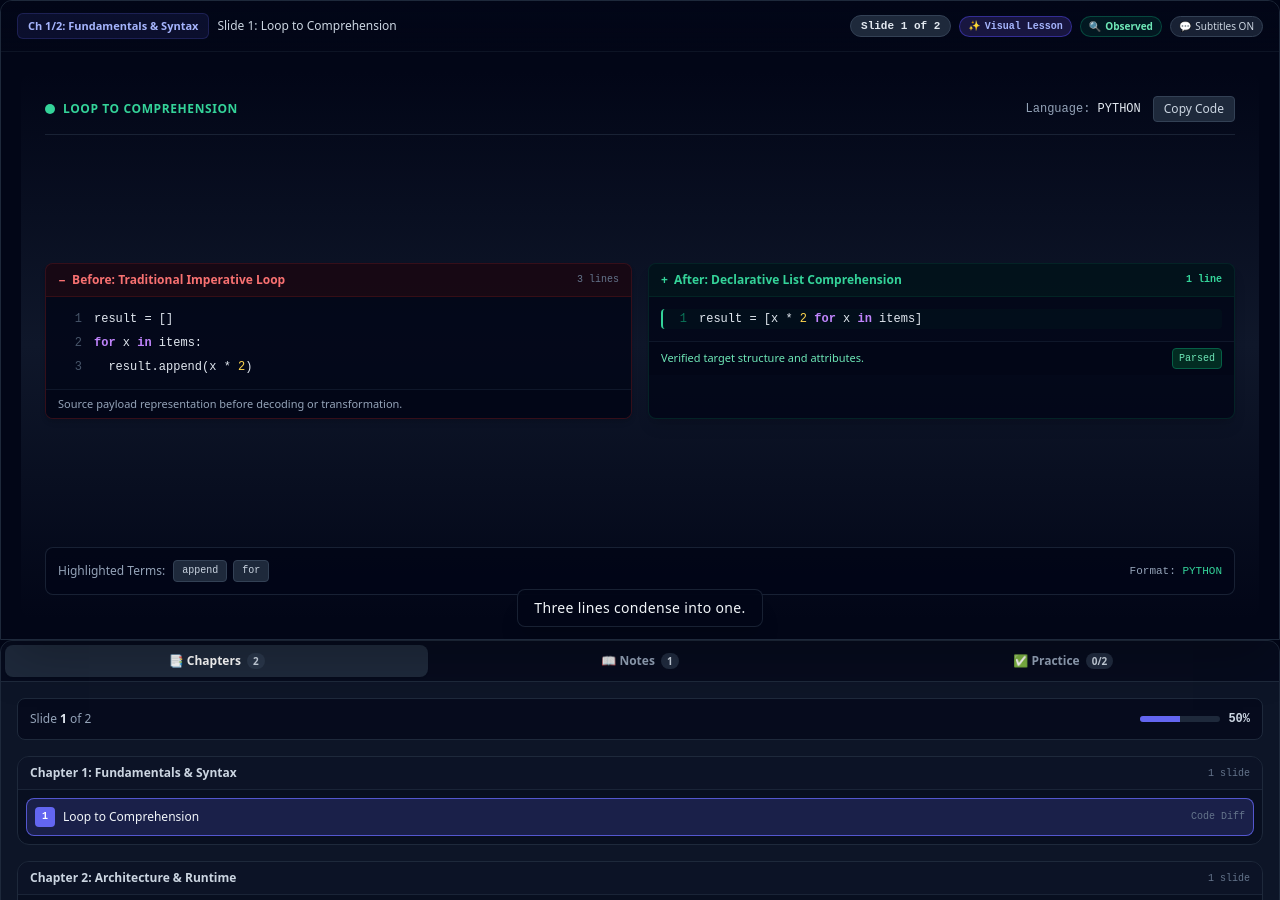
Test case: Player Components › renders Evidence Grounding badges and trust indicators in PlayerViewport and CompanionPanel
Expected: the text "observed" is shown, [1105, 18, 1153, 34]
Click the button "✅ Practice 0/2". click: coordinates (1063, 661)
box: [852, 645, 1275, 677]
(page scrolled)
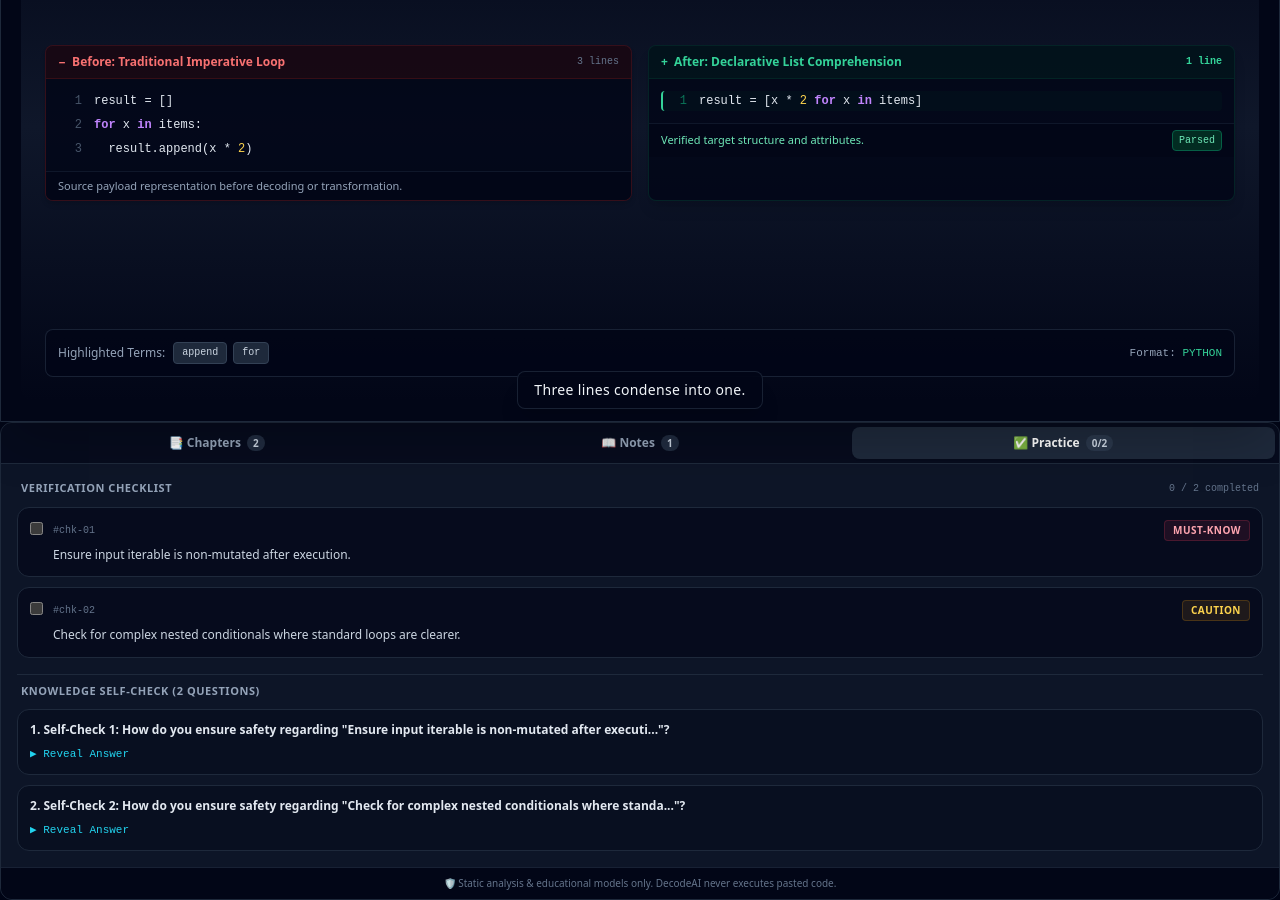
Expected: the text "DecodeAI never executes pasted code" is shown, [444, 876, 836, 890]
Result: the text "Ensure input iterable is non-mutated after execution." is shown at [53, 546, 351, 562]
Result: the text "Must-Know" is shown at [1164, 520, 1250, 540]
